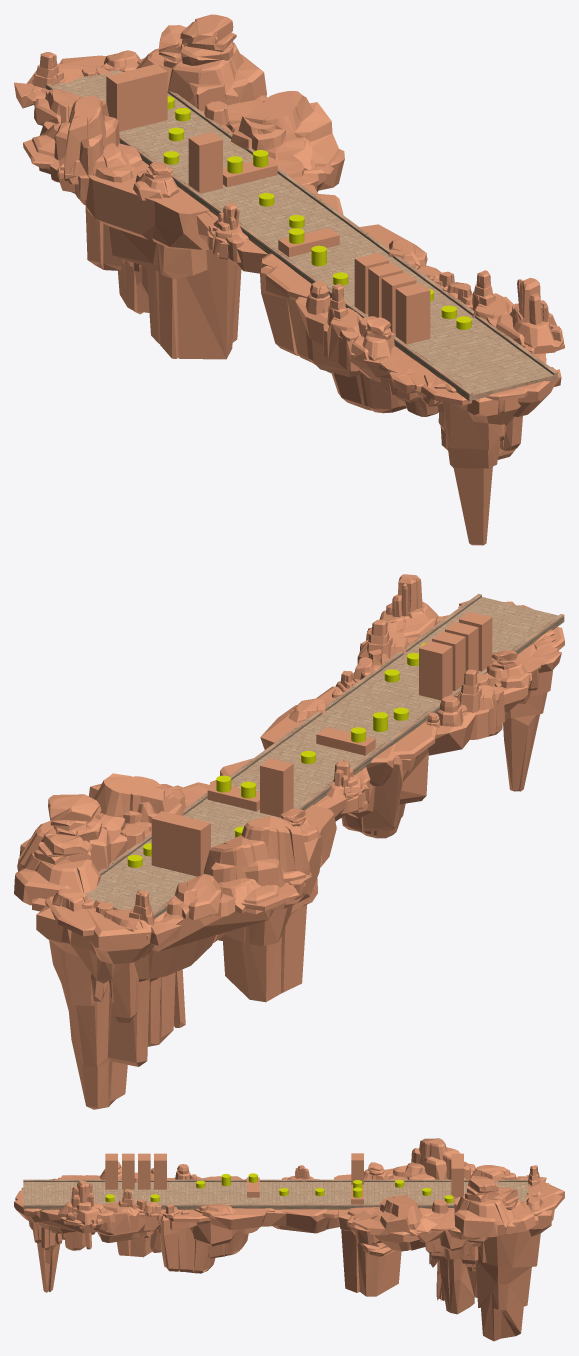
Rendered from road_8_block_B.fbx.
3 renders of one model, top to bottom at view 1: azimuth 30°, elevation 25°; view 2: azimuth 150°, elevation 25°; view 3: azimuth 270°, elevation 25°, orthographic. The views are drawn at different scales.
Visible parts, largest first — view 1: road_8_block_B_standie, road_8_block_B, lane_run_obstacle_dummy_1, run_obstacle_dummy_3, run_obstacle_dummy_1, run_obstacle_dummy_5, lane_jump_obstacle_dummy_2, run_obstacle_dummy_2, run_obstacle_dummy_4, lane_jump_obstacle_dummy_1; view 2: road_8_block_B_standie, road_8_block_B, lane_run_obstacle_dummy_1, run_obstacle_dummy_5, run_obstacle_dummy_1, run_obstacle_dummy_3, lane_jump_obstacle_dummy_2, run_obstacle_dummy_4, run_obstacle_dummy_2, lane_jump_obstacle_dummy_1; view 3: road_8_block_B_standie, road_8_block_B, lane_run_obstacle_dummy_1, run_obstacle_dummy_3, run_obstacle_dummy_4, run_obstacle_dummy_5, run_obstacle_dummy_2, run_obstacle_dummy_1.
Part boxes in pixels (box(x1,y1,x2,y2)): road_8_block_B_standie: box(14, 14, 564, 545); road_8_block_B: box(45, 65, 557, 400); lane_run_obstacle_dummy_1: box(106, 64, 167, 131); run_obstacle_dummy_3: box(395, 282, 430, 344); run_obstacle_dummy_1: box(188, 132, 222, 193); run_obstacle_dummy_5: box(354, 252, 389, 314); lane_jump_obstacle_dummy_2: box(278, 227, 339, 257); run_obstacle_dummy_2: box(381, 272, 416, 333); run_obstacle_dummy_4: box(368, 262, 402, 317); lane_jump_obstacle_dummy_1: box(223, 159, 277, 187); road_8_block_B_standie: box(14, 574, 564, 1109); road_8_block_B: box(85, 593, 564, 918); lane_run_obstacle_dummy_1: box(151, 811, 210, 876); run_obstacle_dummy_5: box(419, 641, 452, 700); run_obstacle_dummy_1: box(260, 758, 293, 817); run_obstacle_dummy_3: box(459, 611, 492, 671); lane_jump_obstacle_dummy_2: box(316, 727, 375, 755); run_obstacle_dummy_4: box(432, 631, 465, 690); run_obstacle_dummy_2: box(445, 621, 478, 673); lane_jump_obstacle_dummy_1: box(207, 784, 259, 811); road_8_block_B_standie: box(14, 1138, 564, 1341); road_8_block_B: box(23, 1179, 529, 1209); lane_run_obstacle_dummy_1: box(451, 1153, 463, 1197); run_obstacle_dummy_3: box(105, 1153, 117, 1189); run_obstacle_dummy_4: box(138, 1153, 150, 1189); run_obstacle_dummy_5: box(154, 1153, 166, 1189); run_obstacle_dummy_2: box(122, 1153, 134, 1189); run_obstacle_dummy_1: box(351, 1153, 363, 1184).
Bounding box in the file's own units: 2790 × 2966 × 8667.
